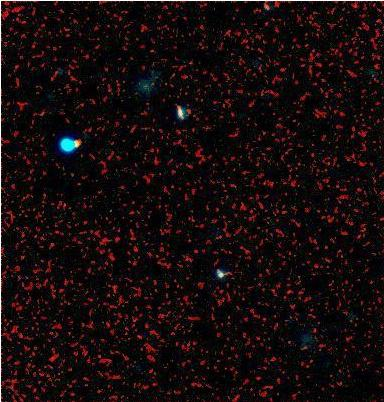star: (62, 125, 92, 155)
